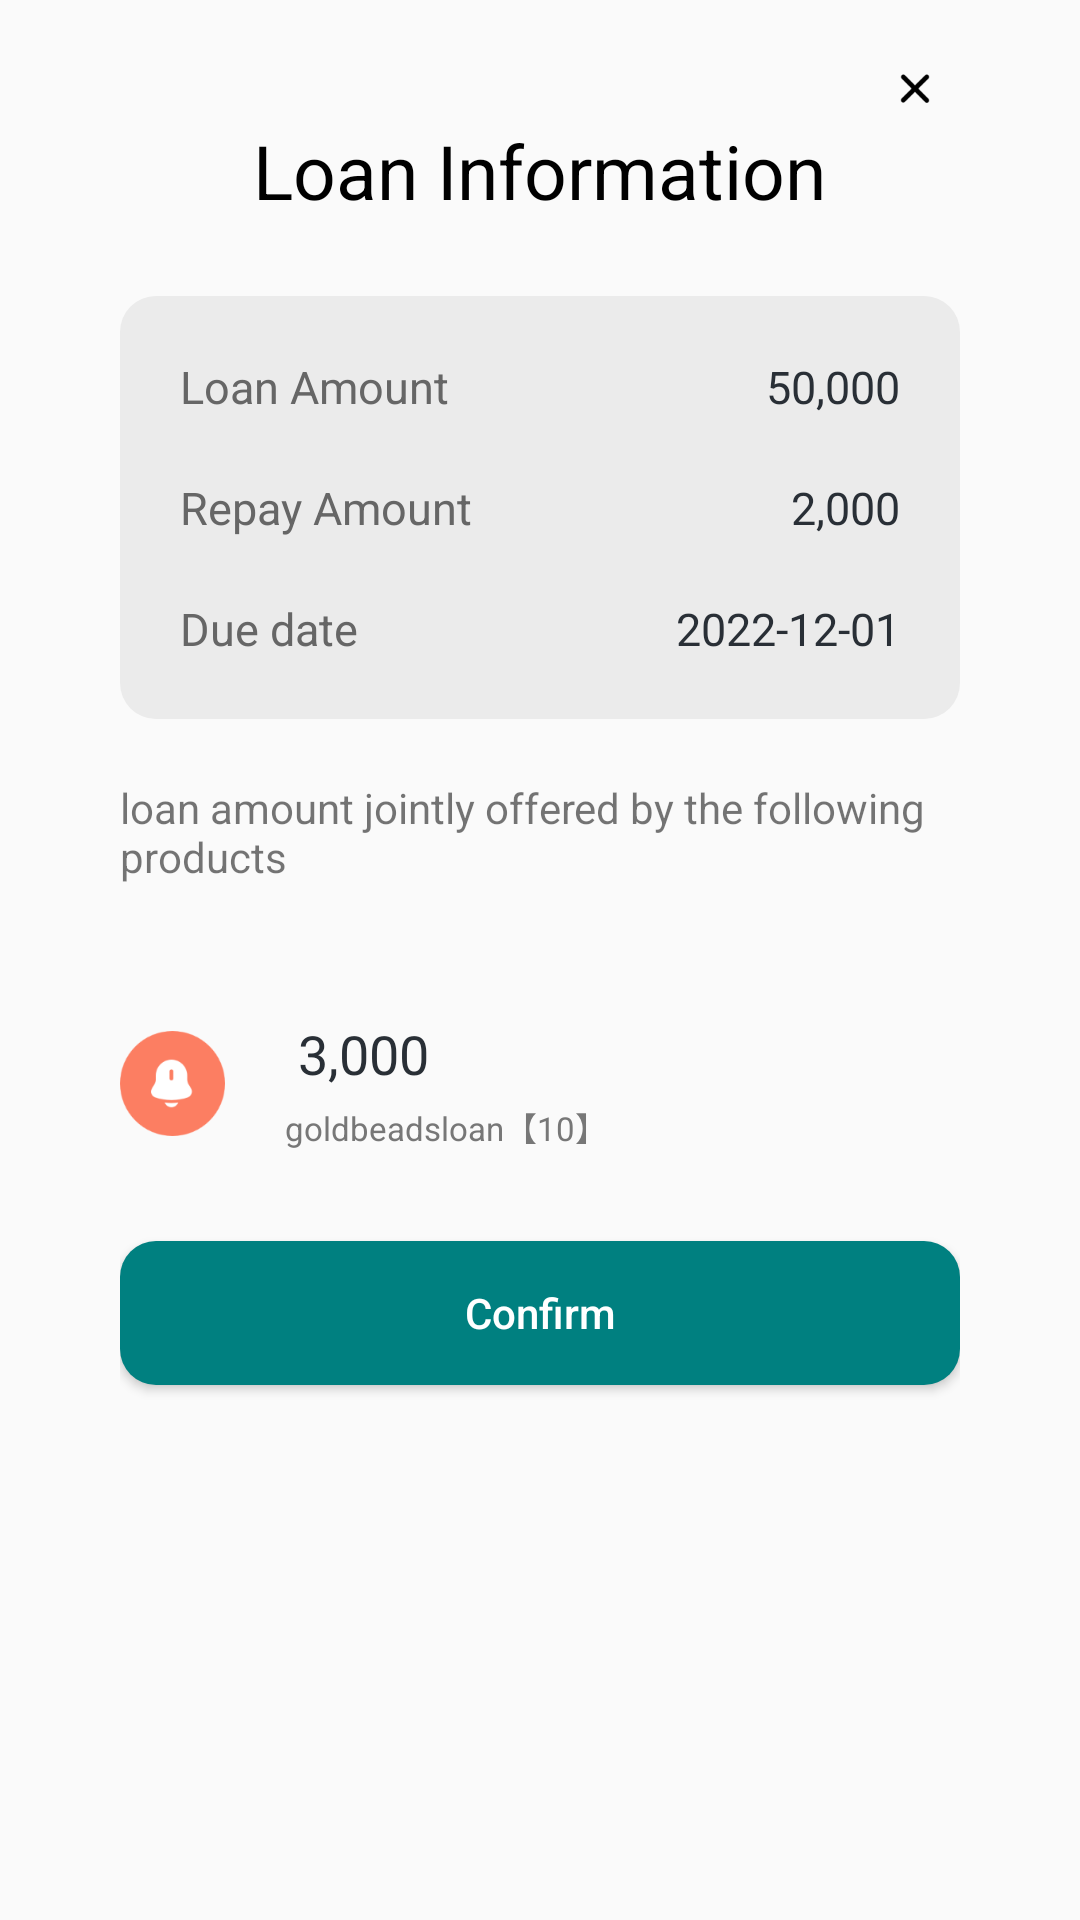

Named icons in this screenshot (1080 x 1920) and their centers, point (x, y):
close: point (915, 88)
